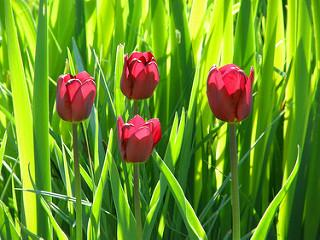tulip: (206, 63, 255, 121), (117, 115, 163, 163), (56, 70, 95, 123), (120, 51, 159, 98)
